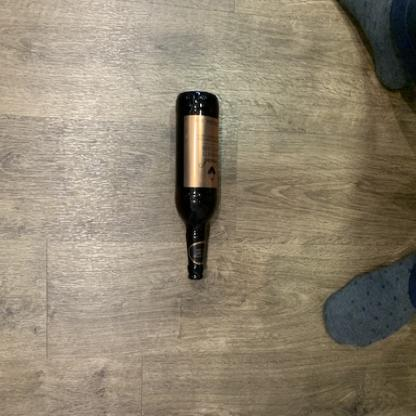trash: (174, 89, 220, 286)
